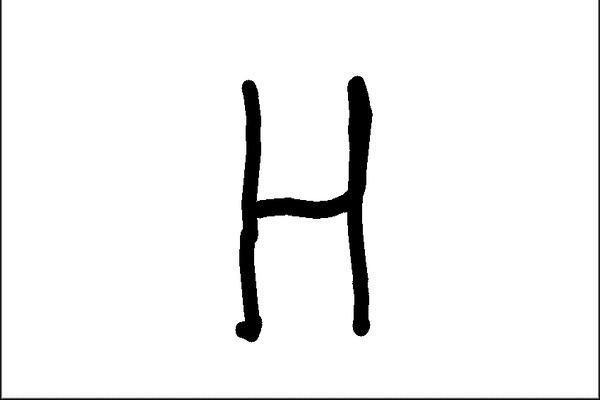H: (227, 72, 375, 344)
